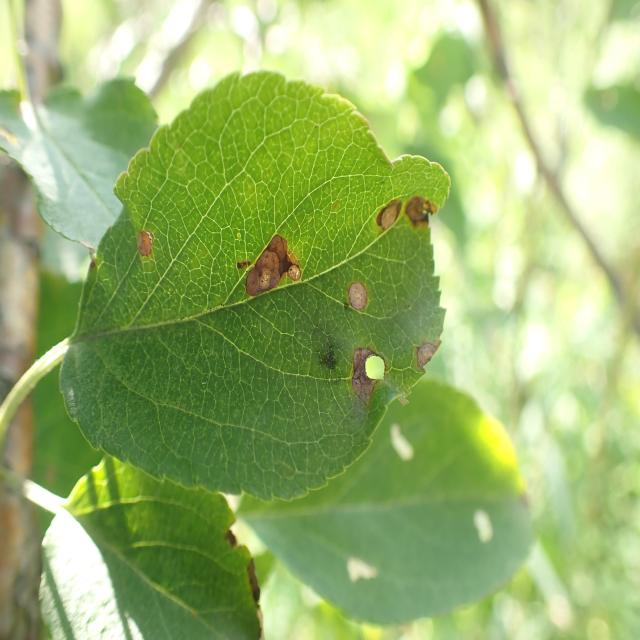Black Rot: (347, 162, 441, 242), (323, 328, 398, 421), (230, 219, 304, 301), (462, 498, 510, 578), (127, 218, 168, 294), (382, 429, 422, 486), (338, 553, 381, 603), (416, 332, 456, 385), (349, 278, 373, 312)
